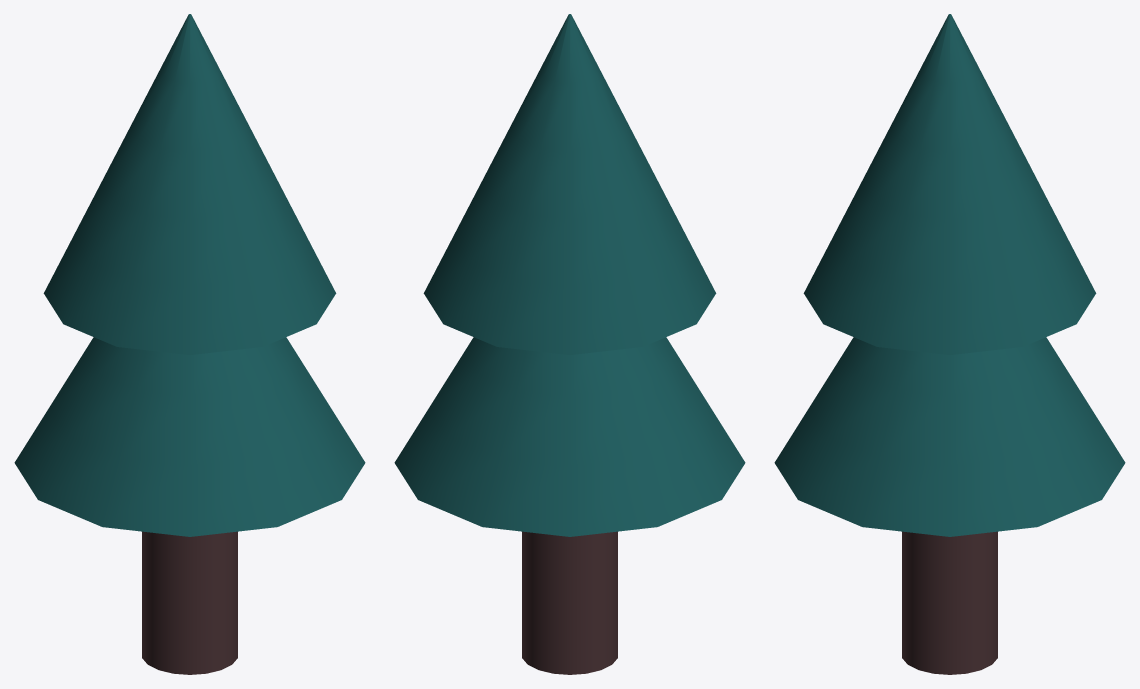
The model's file is tree.fbx.
3 views of the same model, side by side, from view 1: azimuth 30°, elevation 25°; view 2: azimuth 150°, elevation 25°; view 3: azimuth 270°, elevation 25° (orthographic).
Parts seen in each view (by area): view 1: Cone002, Cone001, Cylinder001; view 2: Cone002, Cone001, Cylinder001; view 3: Cone002, Cone001, Cylinder001.
Boxes of the visible parts, x1=… form: Cone002: x1=43, y1=14, x2=336, y2=354; Cone001: x1=14, y1=337, x2=365, y2=536; Cylinder001: x1=142, y1=531, x2=237, y2=674; Cone002: x1=423, y1=14, x2=716, y2=354; Cone001: x1=394, y1=337, x2=745, y2=536; Cylinder001: x1=522, y1=531, x2=617, y2=674; Cone002: x1=803, y1=14, x2=1096, y2=354; Cone001: x1=774, y1=337, x2=1125, y2=536; Cylinder001: x1=902, y1=531, x2=997, y2=674.
Size of the model in its own units: 28.35 by 56.99 by 28.35.
